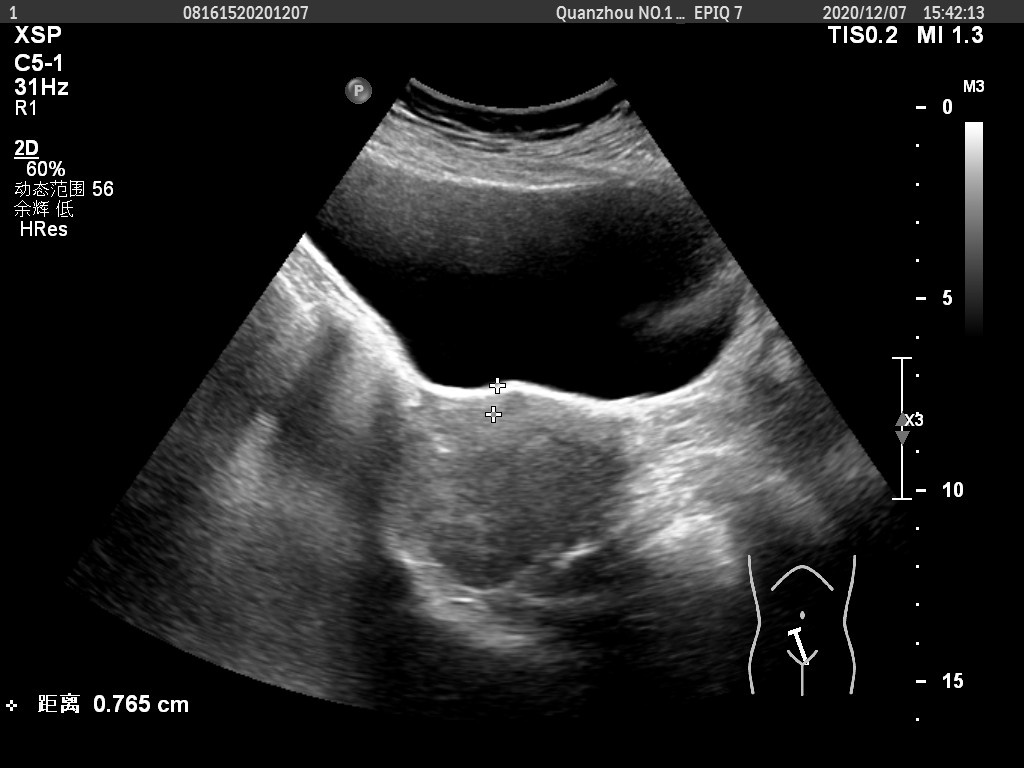肌瘤: (494, 388, 530, 417)
